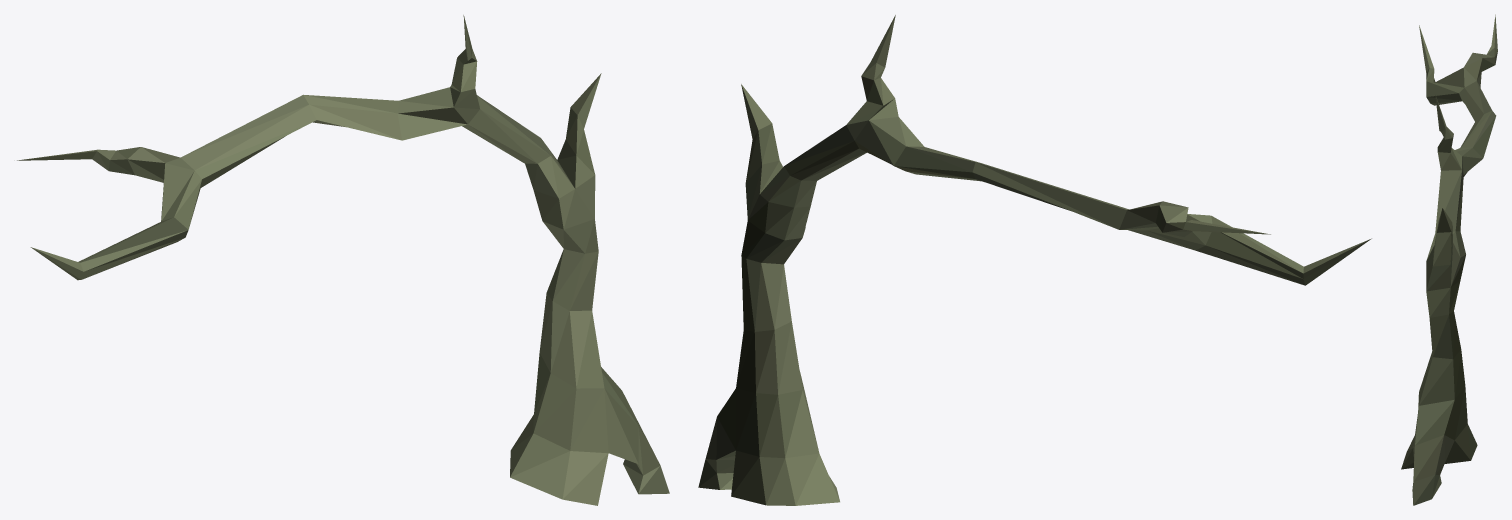
3 renders of one model, left to right at view 1: azimuth 30°, elevation 25°; view 2: azimuth 150°, elevation 25°; view 3: azimuth 270°, elevation 25°, orthographic. The views are drawn at different scales.
Visible parts, largest first — view 1: Object Tall tree 2024-03-15_11-56-09; view 2: Object Tall tree 2024-03-15_11-56-09; view 3: Object Tall tree 2024-03-15_11-56-09.
Part boxes in pixels (bbox=[...]): Object Tall tree 2024-03-15_11-56-09: bbox=[17, 15, 669, 505]; Object Tall tree 2024-03-15_11-56-09: bbox=[698, 15, 1371, 505]; Object Tall tree 2024-03-15_11-56-09: bbox=[1401, 14, 1497, 505].
Size of the model in its own units: 5415 by 4172 by 1049.
